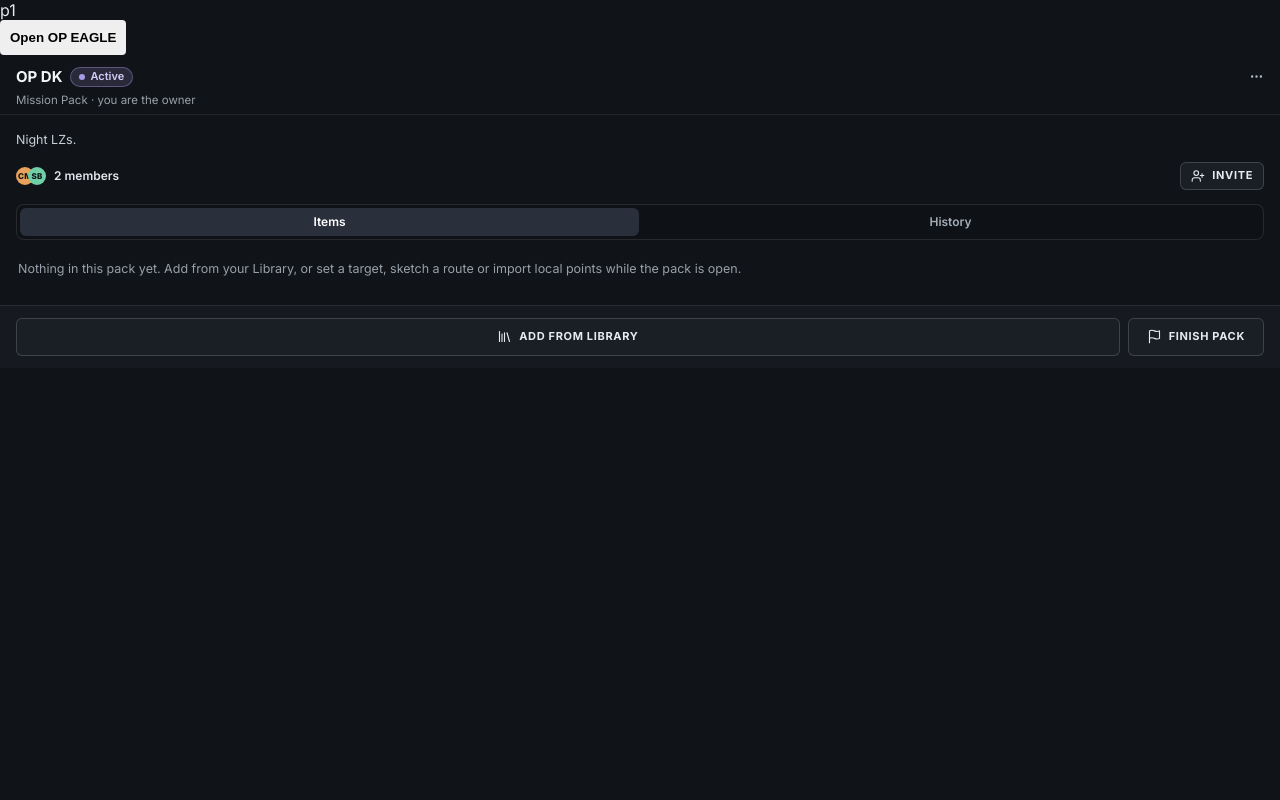
Test case: renaming and describing the pack › renames it for everyone, in capitals as packs are named
Click the button named "More actions for OP DK": (1256,76) [1242, 62, 1270, 90]
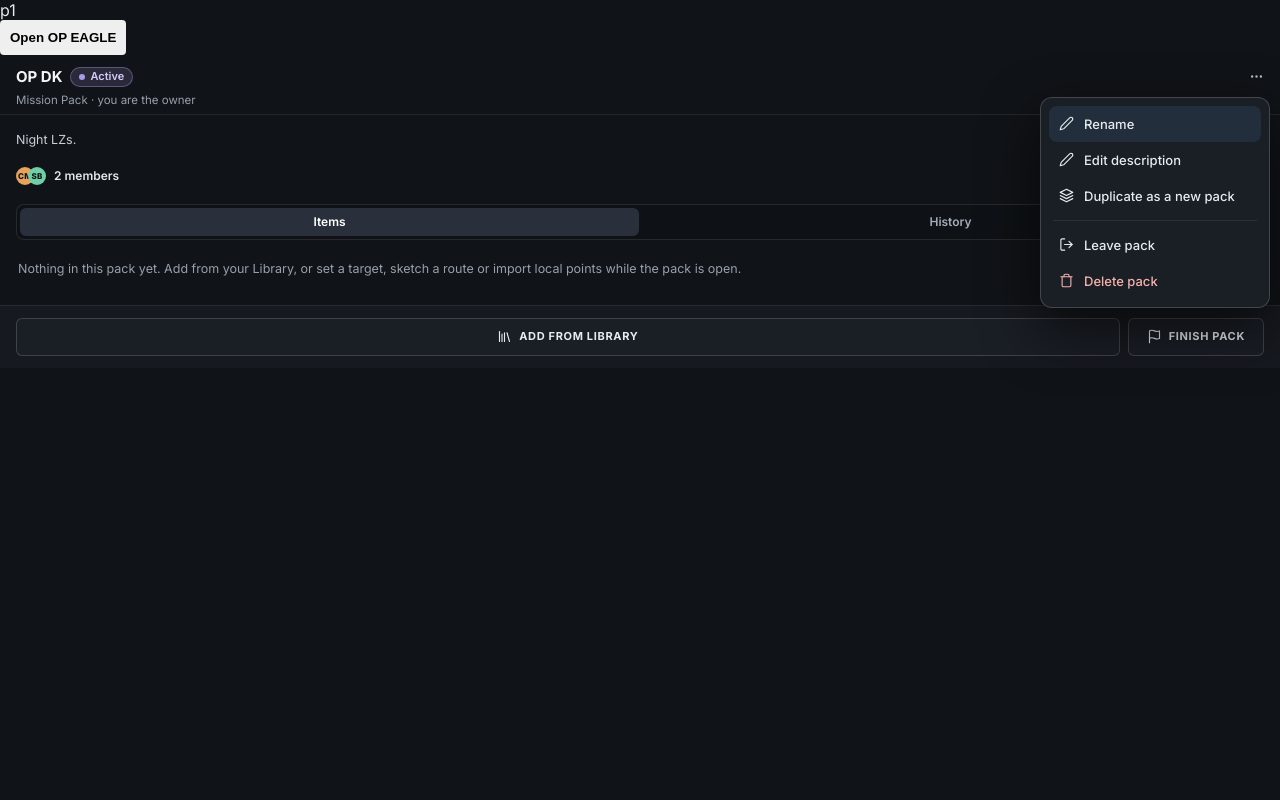
Click the menu item "Rename": (1155,124) [1049, 106, 1261, 142]
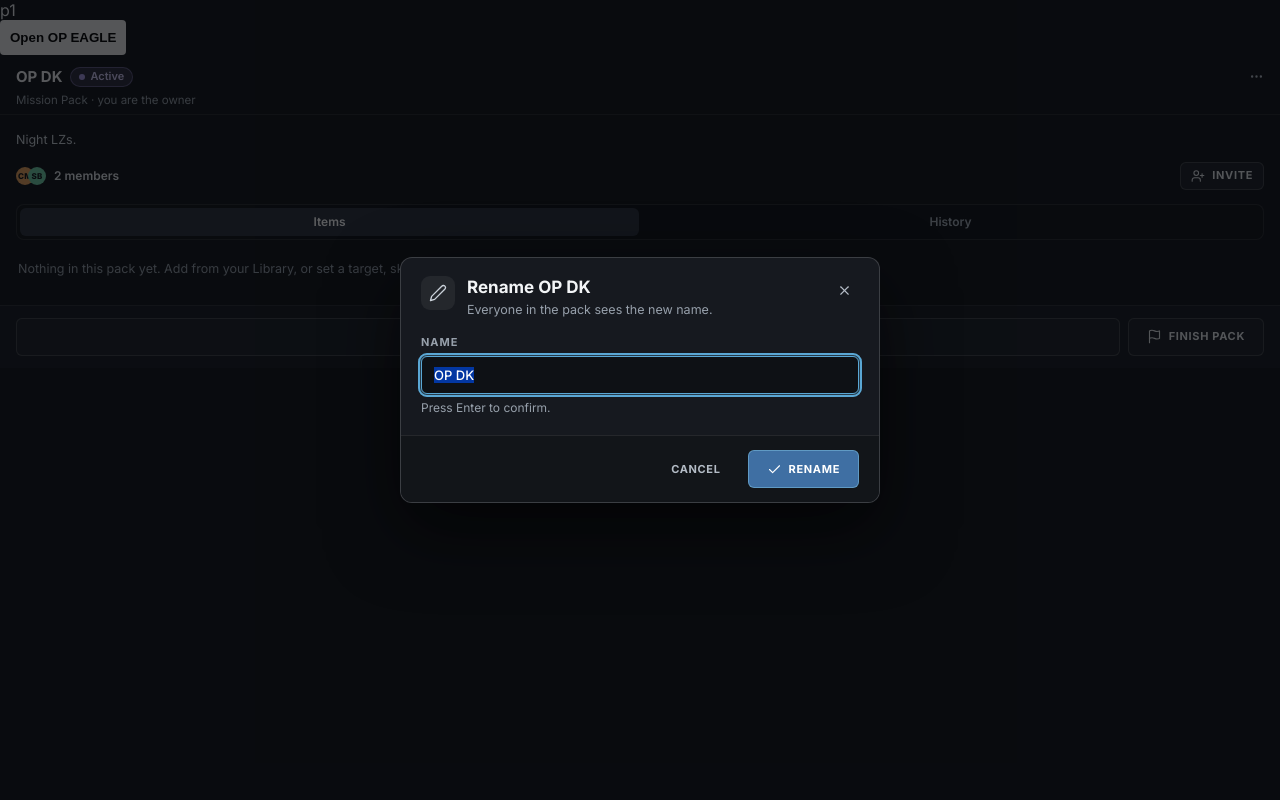
Replace the text in the field labelled "Name" with "op eagle": (640,375) [421, 356, 859, 394]
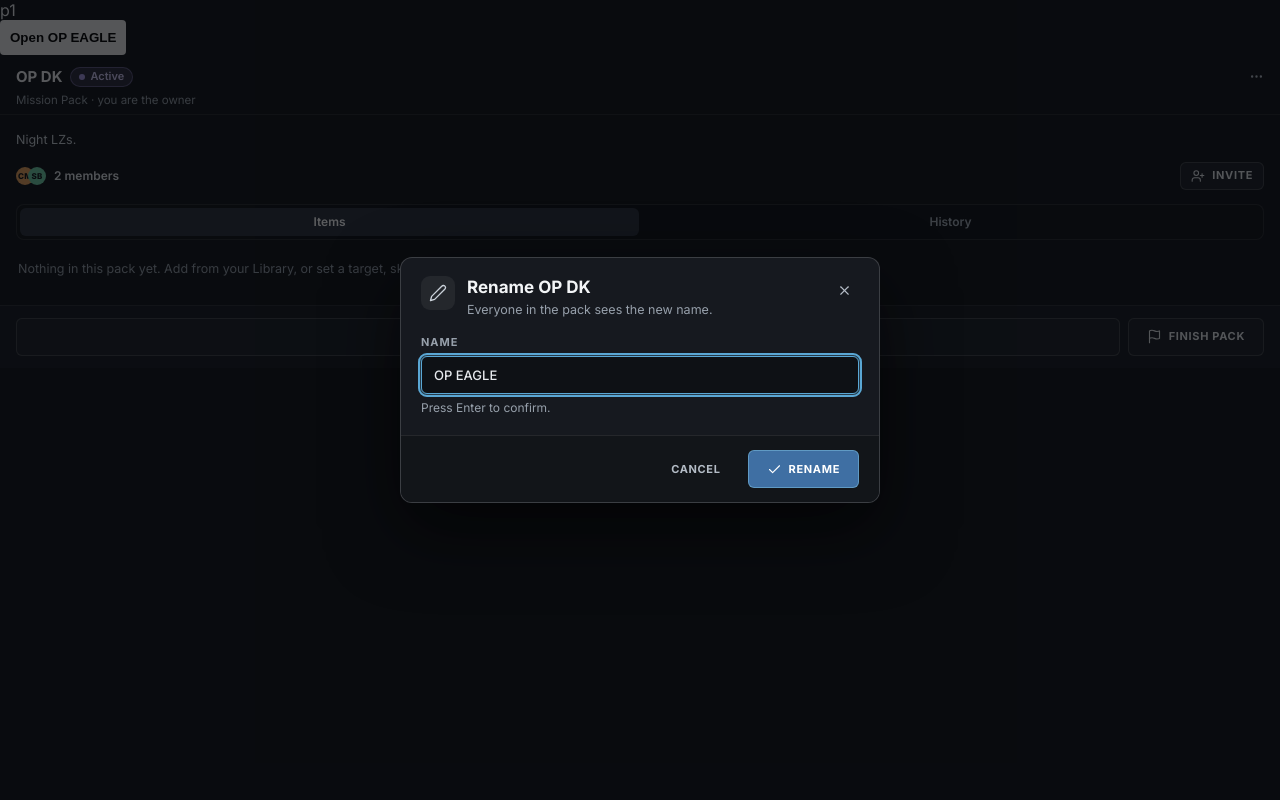
Click the button "Rename": (803,469) [748, 450, 859, 488]
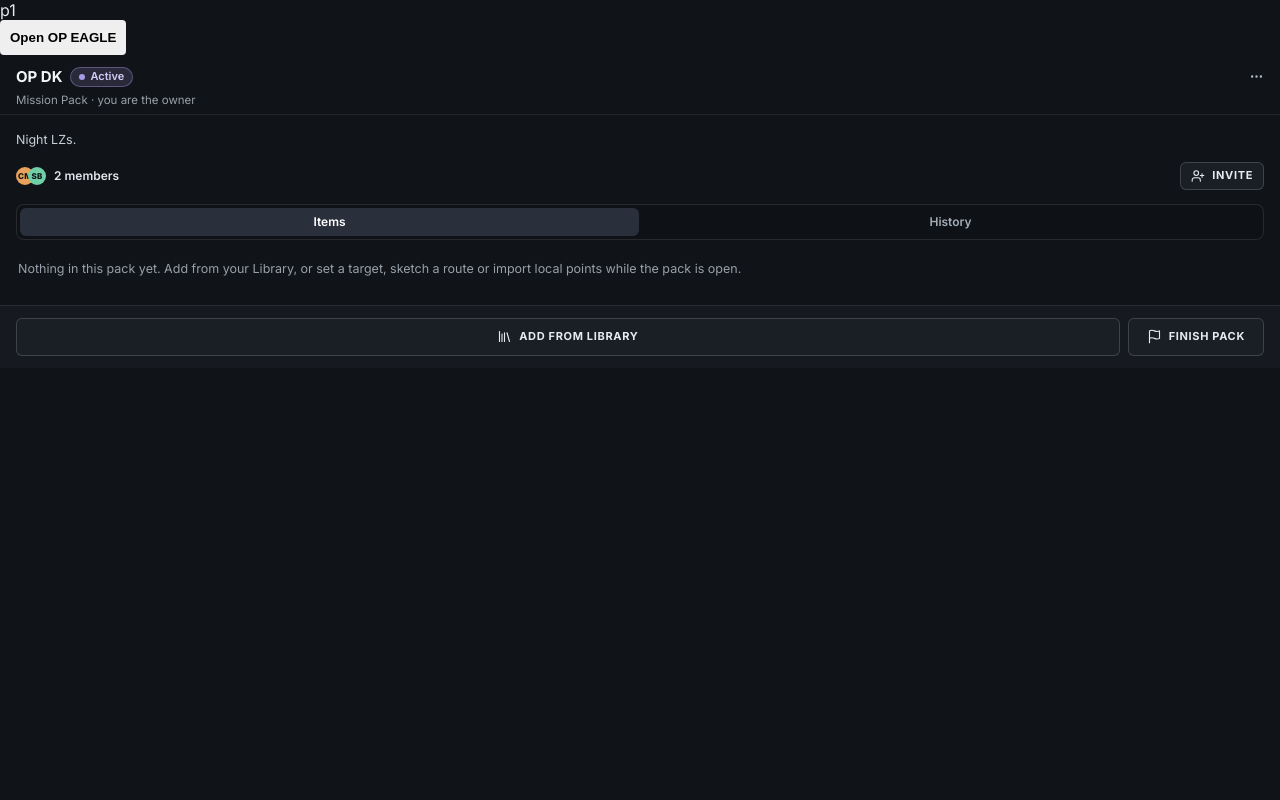
Expected: the dialog is gone
